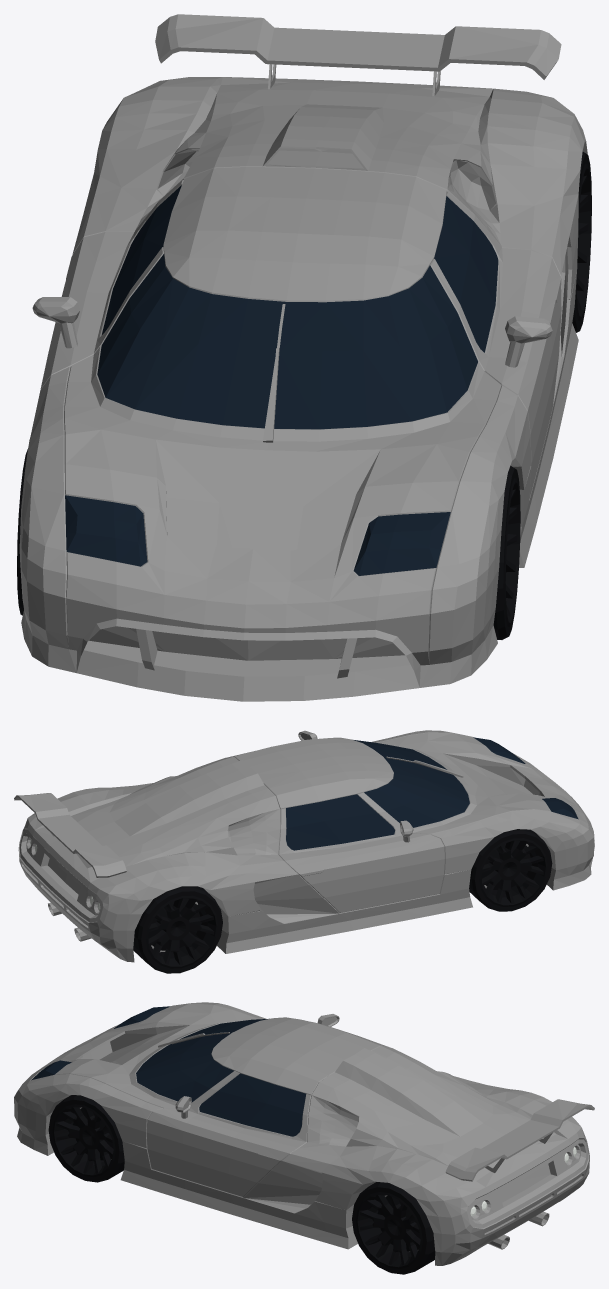
Rendered from sport.obj.
3 renders of one model, top to bottom at view 1: azimuth 30°, elevation 25°; view 2: azimuth 150°, elevation 25°; view 3: azimuth 270°, elevation 25°, orthographic. The views are drawn at different scales.
Parts seen in each view (by area): view 1: sport-body, wheel_h003; view 2: sport-body, wheel_h003; view 3: sport-body, wheel_h003.
Boxes of the visible parts, box(x1,y1,x2,y2) form: sport-body: box(19, 14, 587, 701); wheel_h003: box(17, 151, 591, 639); sport-body: box(14, 730, 594, 962); wheel_h003: box(133, 829, 552, 973); sport-body: box(14, 1002, 594, 1265); wheel_h003: box(48, 1095, 435, 1274).
Bounding box in the file's own units: 3.55 × 1.12 × 4.1.
